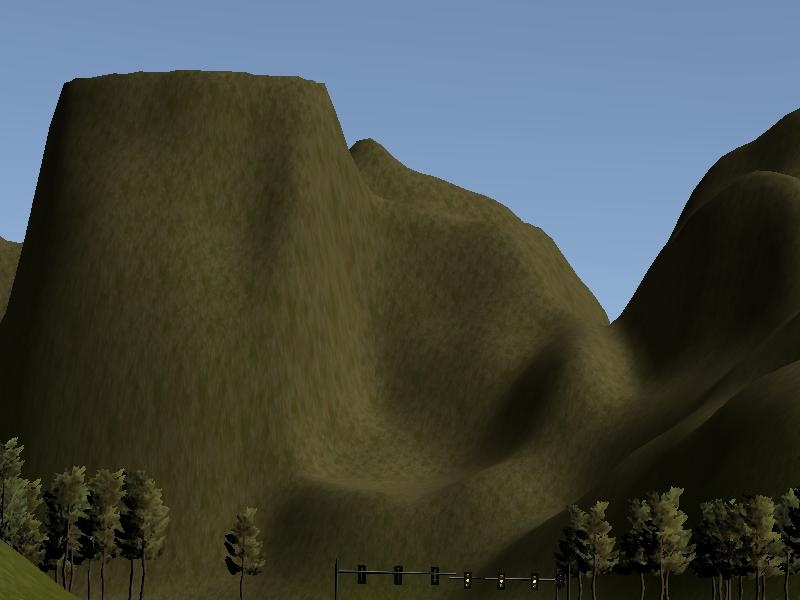yellow: (530, 572, 540, 591), (464, 570, 472, 590), (498, 573, 505, 591)
